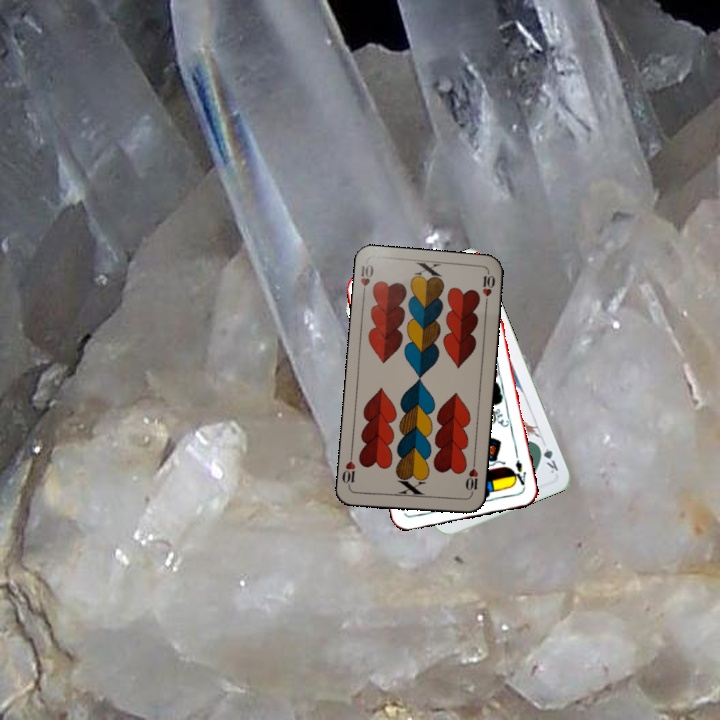EA: (508, 456, 529, 490)
GK: (534, 440, 561, 476)
H10: (461, 458, 481, 498), (357, 261, 376, 300)
